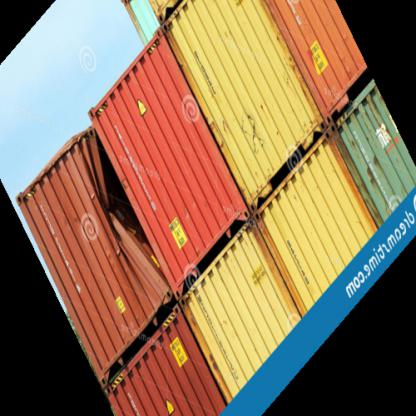Damage: (80, 127, 166, 288), (229, 99, 271, 164)
